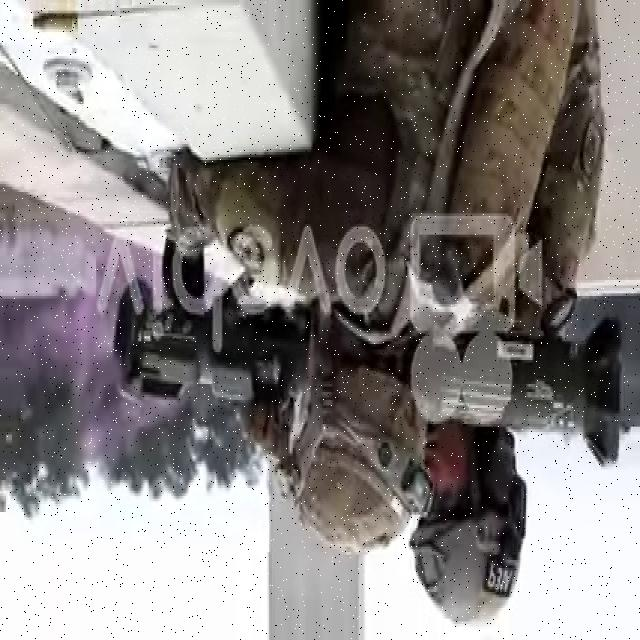bazooka: (109, 260, 630, 474)
